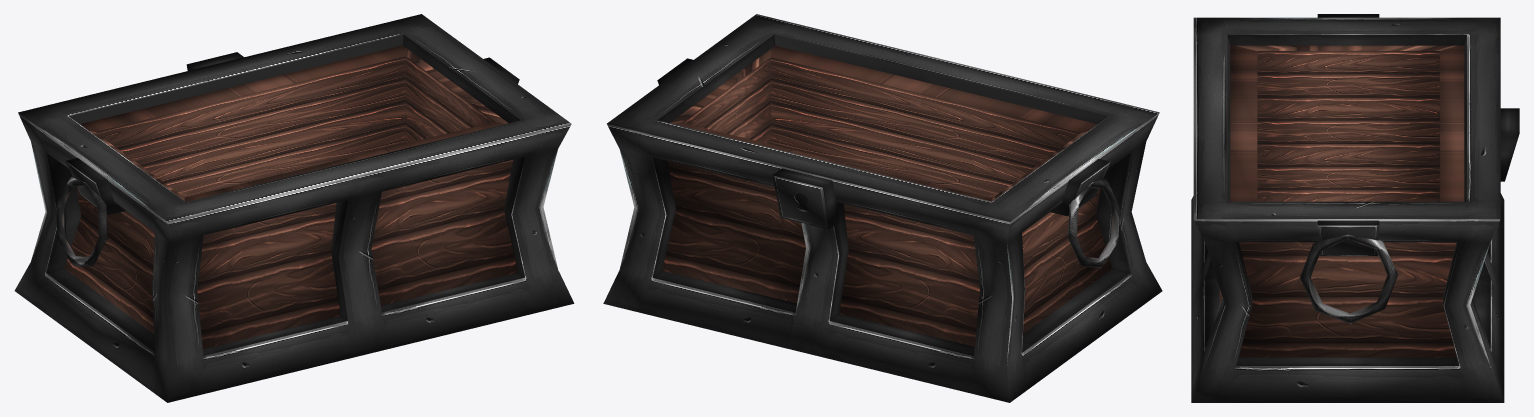
File: wood2bottom.fbx
The picture shows the model from 3 angles, left to right: view 1: azimuth 30°, elevation 25°; view 2: azimuth 150°, elevation 25°; view 3: azimuth 270°, elevation 25°; orthographic projection. The views are drawn at different scales.
Visible parts, largest first — view 1: Mesh; view 2: Mesh; view 3: Mesh.
Part boxes in pixels (left/top/right/bottom): Mesh: left=14, top=14, right=574, bottom=402; Mesh: left=603, top=14, right=1162, bottom=402; Mesh: left=1191, top=14, right=1519, bottom=402.
Bounding box in the file's own units: 13.54 × 5.23 × 8.48.
